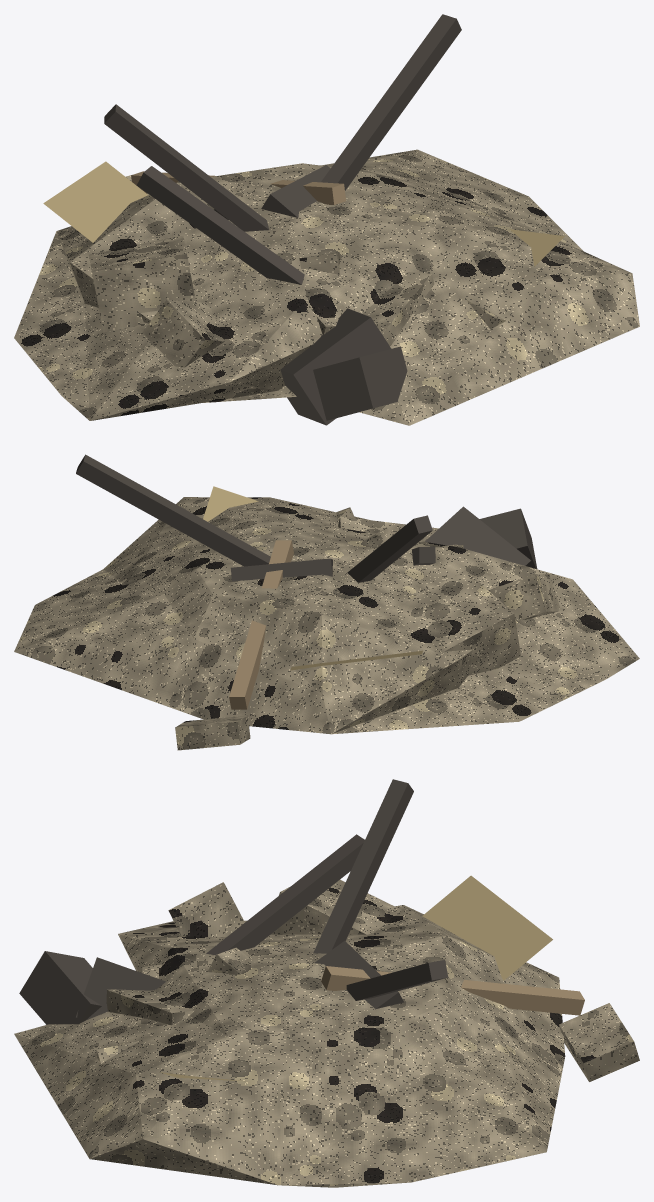
The model's file is rubble_debris_large.glb.
3 renders of one model, top to bottom at view 1: azimuth 30°, elevation 25°; view 2: azimuth 150°, elevation 25°; view 3: azimuth 270°, elevation 25°, orthographic. The views are drawn at different scales.
Parts seen in each view (by area): view 1: rubble_debris_large-col; view 2: rubble_debris_large-col; view 3: rubble_debris_large-col.
Boxes of the visible parts, bbox=[...] form: rubble_debris_large-col: bbox=[14, 14, 639, 425]; rubble_debris_large-col: bbox=[14, 454, 639, 750]; rubble_debris_large-col: bbox=[14, 779, 639, 1187].
Size of the model in its own units: 3.94 by 1.61 by 3.84.
Materials: 4 (1 with a texture image).
